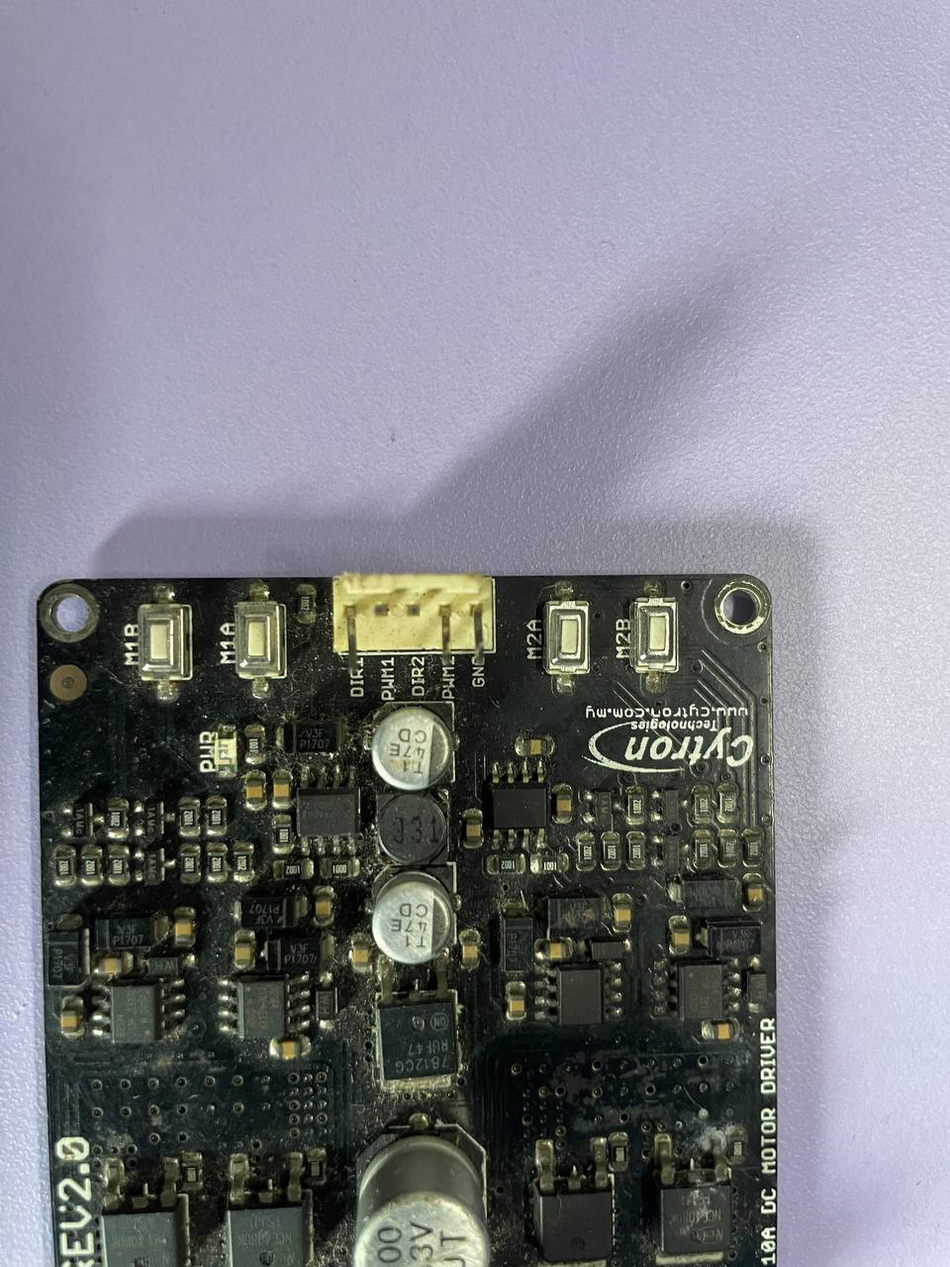bent_pin: (333, 599, 373, 673), (424, 599, 462, 669), (467, 599, 498, 670)
